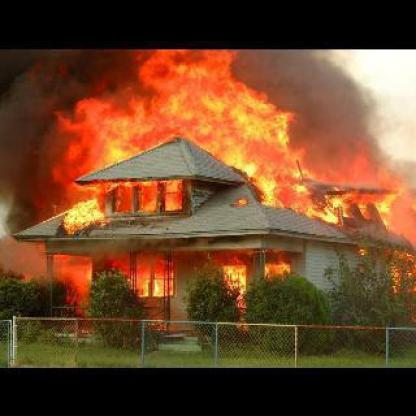fire: (48, 48, 415, 319)
